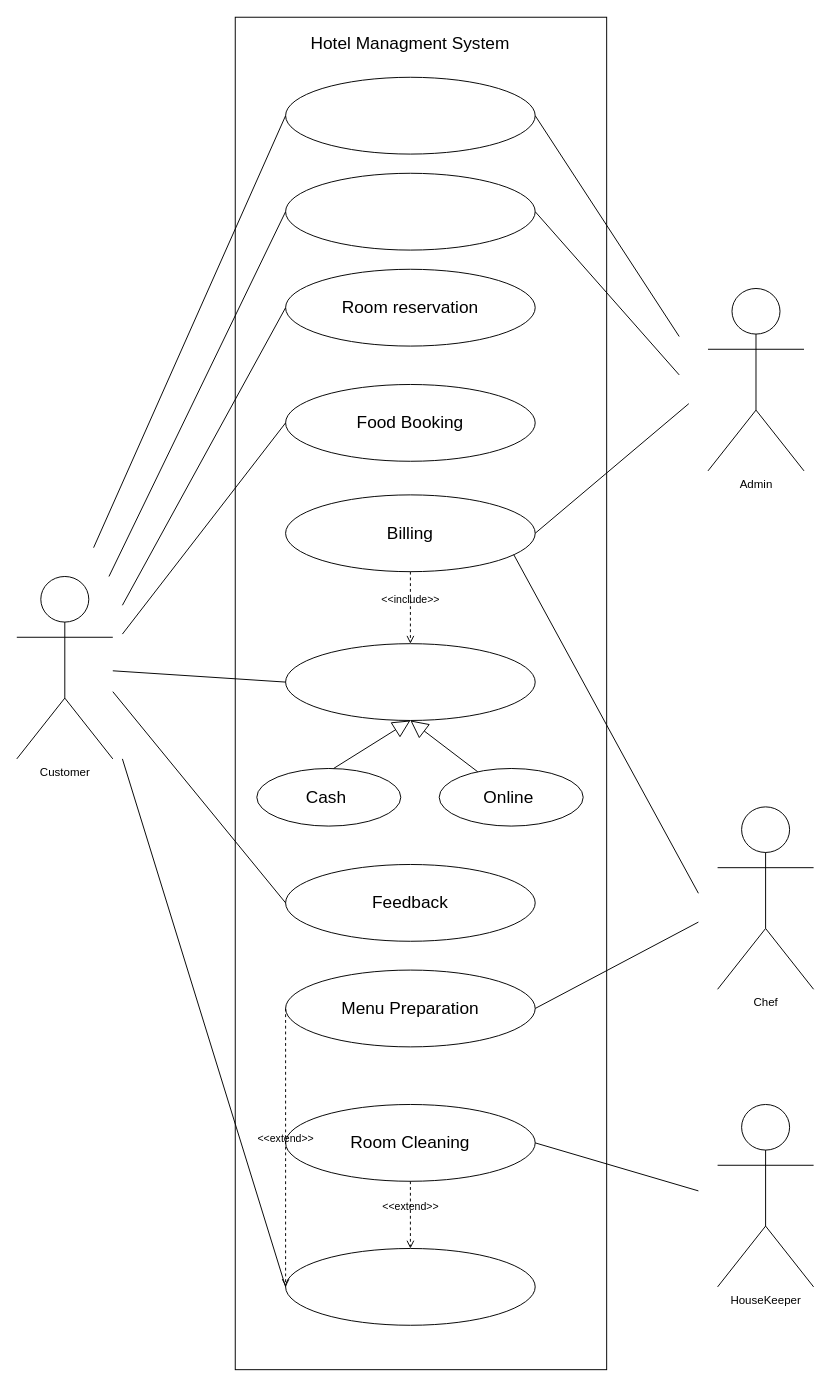
This 830x1386 diagram has some shape labels left out. The shapes that lost their labels are listed below. From the top down, each one's centre as x and y in pixels, then its label:
point 410,115: Authentication
point 410,211: Check Status
point 410,681: Payment
point 410,1286: Tips
